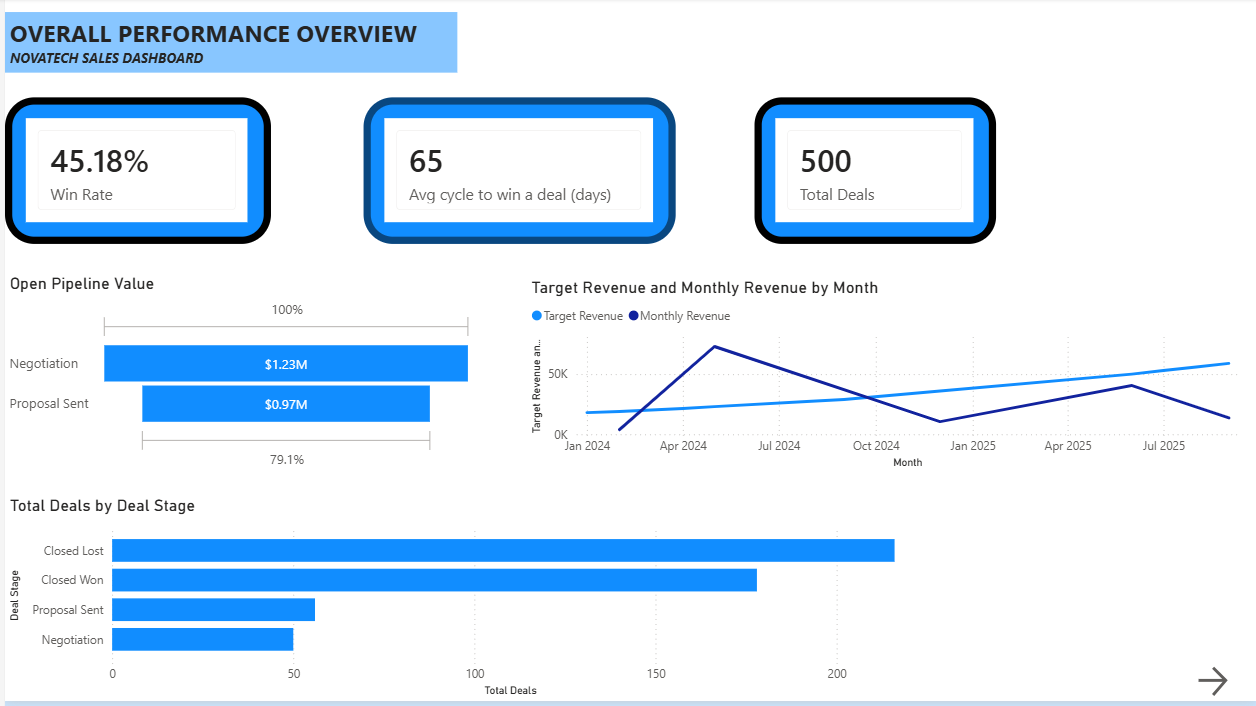

The dashboard page shown, as its layout file describes it:
{"tool":"powerbi","page":{"name":"Overview","canvas":[1280,720],"ordinal":0},"visuals":[{"type":"cardVisual","fields":{"Data":["Sales_Transactions.Total Pipeline Value"]},"box":[767.1,101.7,247.6,150.3],"z":1000},{"type":"clusteredBarChart","fields":{"Y":["Sales_Transactions.Total Pipeline Value"],"Category":["Sales_Transactions.Deal Stage"]},"box":[0,510,940.6,210],"z":2000},{"type":"funnel","title":"Open Pipeline Value ","fields":{"Category":["Sales_Transactions.Deal Stage"],"Y":["Sales_Transactions.Open Pipeline Value"]},"box":[0,282.1,484.1,206.7],"z":3000},{"type":"cardVisual","fields":{"Data":["Sales_Transactions.Win Rate"]},"box":[0,101.7,271.9,150.3],"z":4000},{"type":"cardVisual","fields":{"Data":["Sales_Transactions.Avg cycle to win a deal (days)"]},"box":[367,101.7,319.4,150.3],"z":5000},{"type":"lineChart","fields":{"Y":["Sales_Transactions.Target Revenue","Sales_Transactions.Monthly Revenue"],"Category":["Targets table.Month.Variation.Date Hierarchy.Year"]},"box":[533.9,286,746.1,199],"z":6000},{"type":"textbox","box":[0,14.4,463.1,61.9],"z":6001},{"type":"actionButton","box":[1215.9,679.8,64.1,39.8],"z":6002}]}

Visuals, with their boxes in screenshot pixels (x1, y1, x2, y2), scaled from the page's 1280x720 canvas onto the 1256x706 screenshot:
cardVisual - Sales_Transactions.Total Pipeline Value: pyautogui.locateOnScreen(753, 100, 996, 247)
clusteredBarChart - Sales_Transactions.Total Pipeline Value x Sales_Transactions.Deal Stage: pyautogui.locateOnScreen(0, 500, 923, 705)
"Open Pipeline Value " funnel: pyautogui.locateOnScreen(0, 277, 475, 479)
cardVisual - Sales_Transactions.Win Rate: pyautogui.locateOnScreen(0, 100, 267, 247)
cardVisual - Sales_Transactions.Avg cycle to win a deal (days): pyautogui.locateOnScreen(360, 100, 674, 247)
lineChart - Sales_Transactions.Target Revenue x Sales_Transactions.Monthly Revenue: pyautogui.locateOnScreen(524, 280, 1255, 476)
textbox: pyautogui.locateOnScreen(0, 14, 454, 75)
actionButton: pyautogui.locateOnScreen(1193, 667, 1255, 705)
